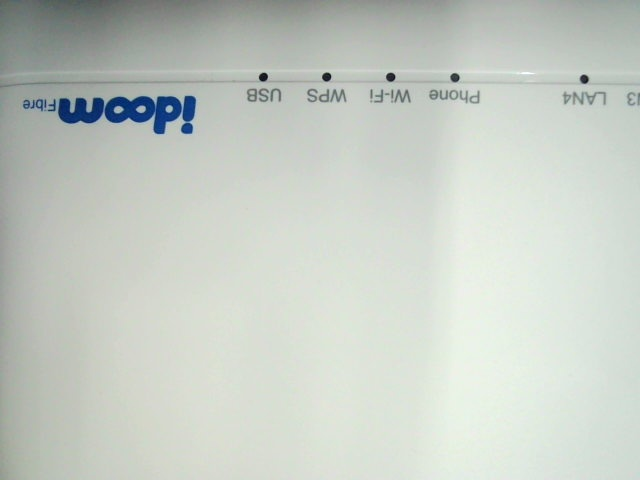BB_idoom: (16, 86, 208, 140)
